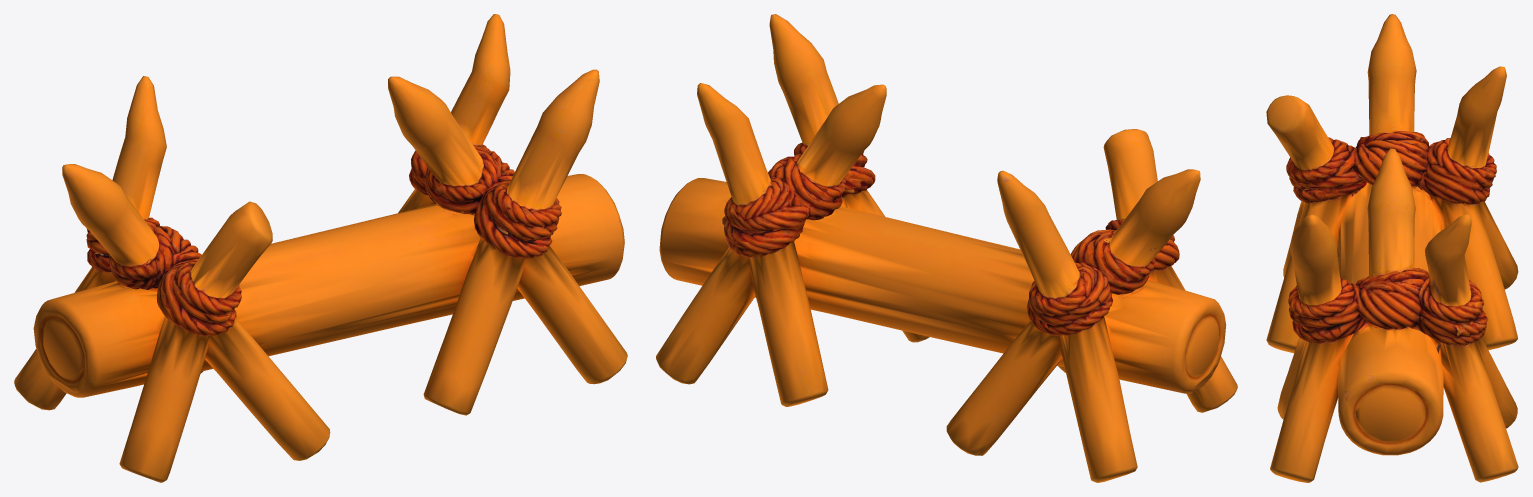
The model's file is cheval.glb.
The picture shows the model from 3 angles, left to right: view 1: azimuth 30°, elevation 25°; view 2: azimuth 150°, elevation 25°; view 3: azimuth 270°, elevation 25°; orthographic projection. The views are drawn at different scales.
Parts seen in each view (by area): view 1: sg_cheval; view 2: sg_cheval; view 3: sg_cheval.
Boxes of the visible parts, x1,y1,x2,y2 form: sg_cheval: (14, 14, 627, 482); sg_cheval: (656, 14, 1237, 482); sg_cheval: (1266, 14, 1518, 482).
Size of the model in its own units: 1 by 0.5403 by 0.4537.
1 material, 1 textured.
